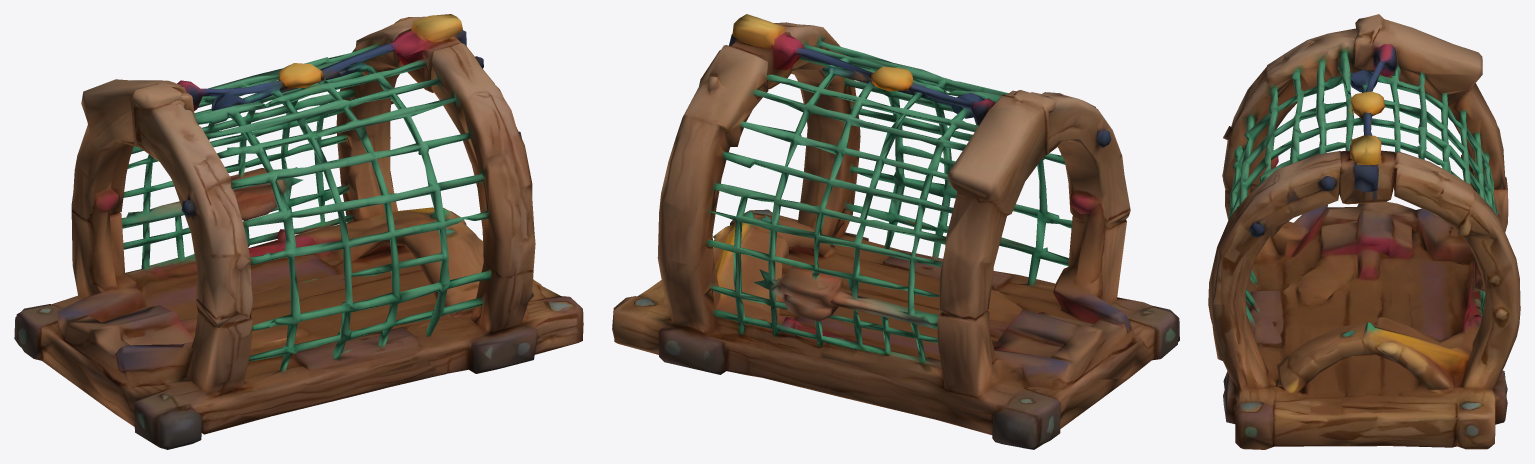
Rendered from prop-trap.glb.
3 views of the same model, side by side, from view 1: azimuth 30°, elevation 25°; view 2: azimuth 150°, elevation 25°; view 3: azimuth 270°, elevation 25° (orthographic). The views are drawn at different scales.
Parts seen in each view (by area): view 1: tripo_node_5ad49d82-4373-4c51-8628-cf5debb4f146; view 2: tripo_node_5ad49d82-4373-4c51-8628-cf5debb4f146; view 3: tripo_node_5ad49d82-4373-4c51-8628-cf5debb4f146.
Boxes of the visible parts, bbox=[...] form: tripo_node_5ad49d82-4373-4c51-8628-cf5debb4f146: bbox=[14, 14, 583, 449]; tripo_node_5ad49d82-4373-4c51-8628-cf5debb4f146: bbox=[612, 14, 1179, 449]; tripo_node_5ad49d82-4373-4c51-8628-cf5debb4f146: bbox=[1208, 14, 1520, 449].
Bounding box in the file's own units: 0.9983 × 0.6399 × 0.667.
1 material, 1 textured.
